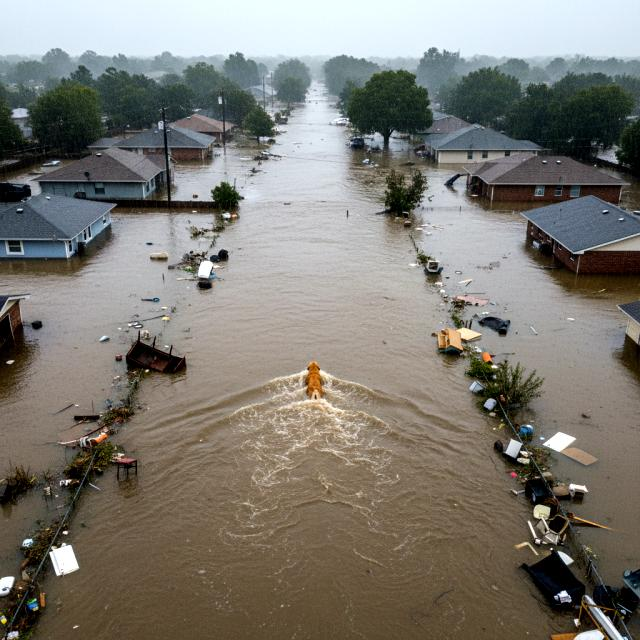dog: (298, 357, 334, 408)
